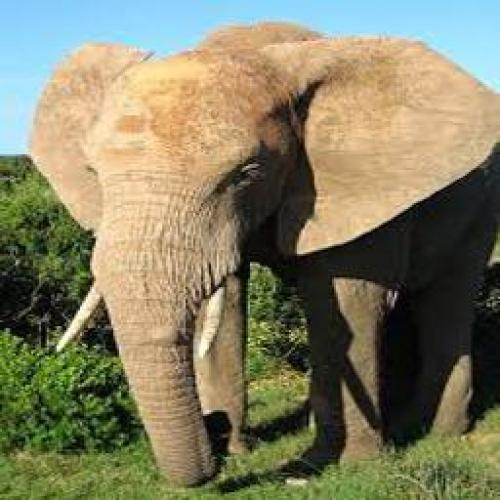african_elephant-endangered: (28, 20, 500, 489)
